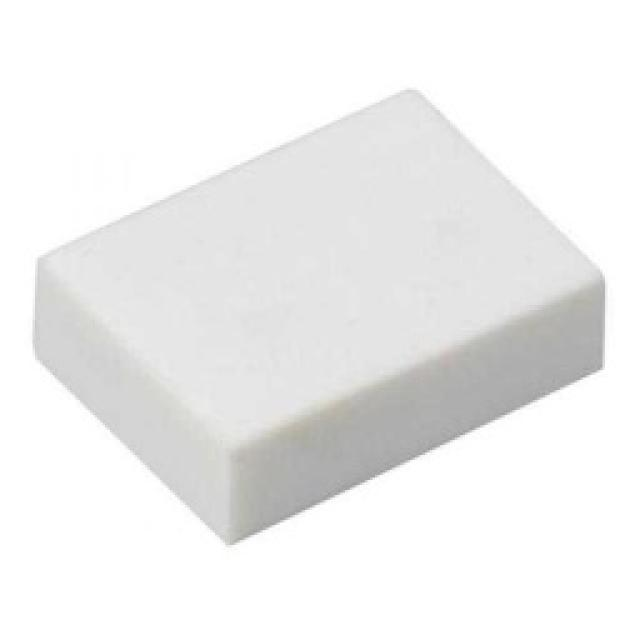Silgi: (36, 87, 608, 547)
